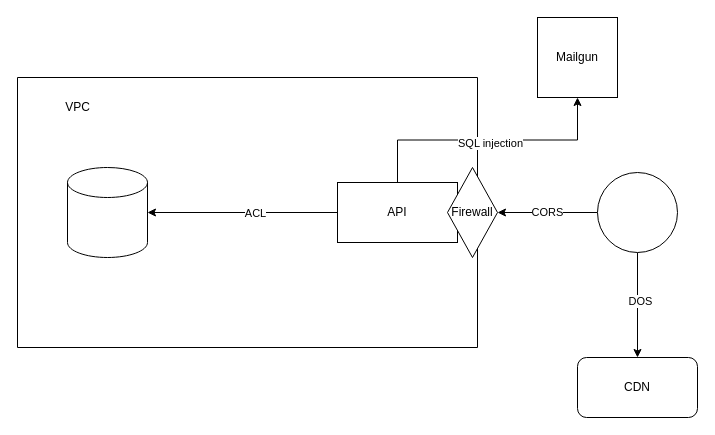
Some shapes in this 715 by 435 pixel diagram are drawn without their labels. The centre of each missing label's shape, as x and y in pixels:
"Client" goes at point 637,212.
"DB" goes at point 107,212.
